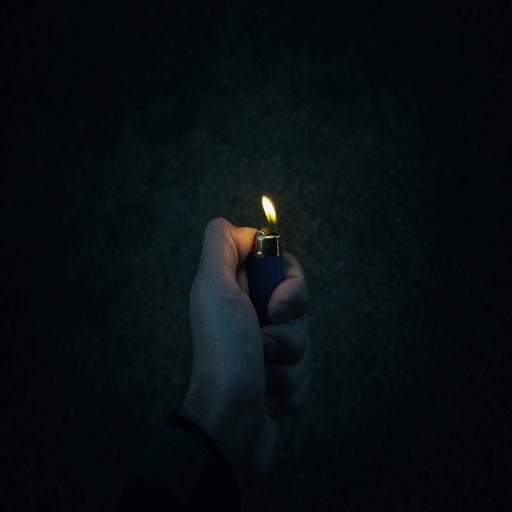fire: (259, 195, 282, 229)
lighter: (236, 166, 296, 339)
